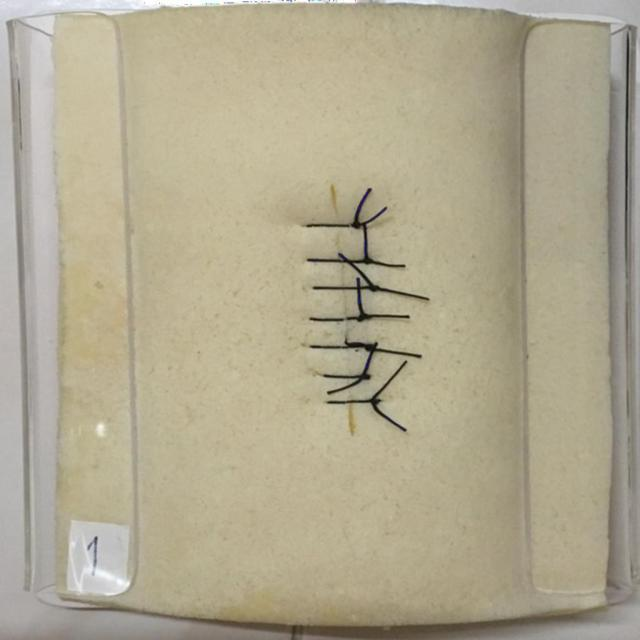knot: (358, 314, 370, 321), (360, 373, 370, 380), (368, 285, 379, 291), (370, 399, 380, 405), (363, 258, 373, 264), (366, 345, 375, 351), (352, 222, 361, 228)
leftover: (365, 355, 411, 406), (332, 247, 378, 291), (366, 396, 410, 434), (367, 282, 433, 303), (359, 341, 425, 360), (349, 183, 376, 229), (349, 202, 391, 230), (324, 371, 367, 396), (356, 337, 381, 380), (352, 273, 367, 320), (363, 256, 409, 270), (339, 333, 372, 350), (358, 218, 370, 264), (359, 311, 413, 320)
stitch: (303, 310, 372, 323), (301, 255, 378, 265), (307, 282, 384, 292), (304, 341, 379, 351), (322, 395, 384, 407), (301, 220, 365, 230), (317, 370, 374, 380)
wound: (325, 183, 357, 439)
